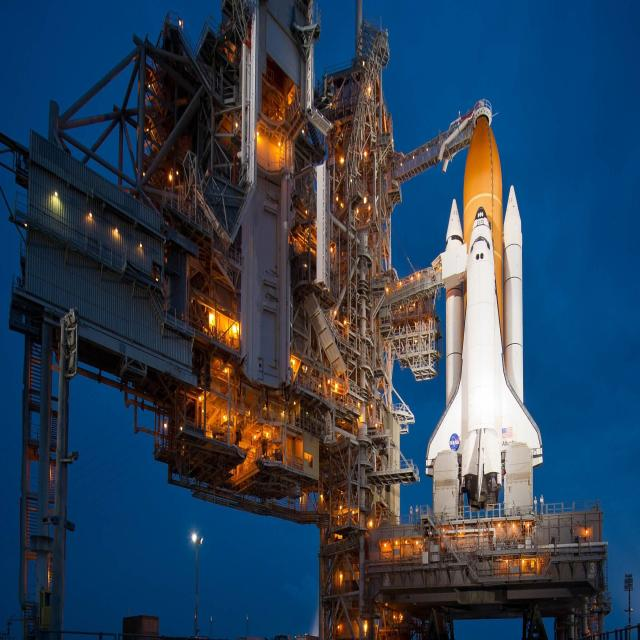rocket: (420, 191, 552, 519)
